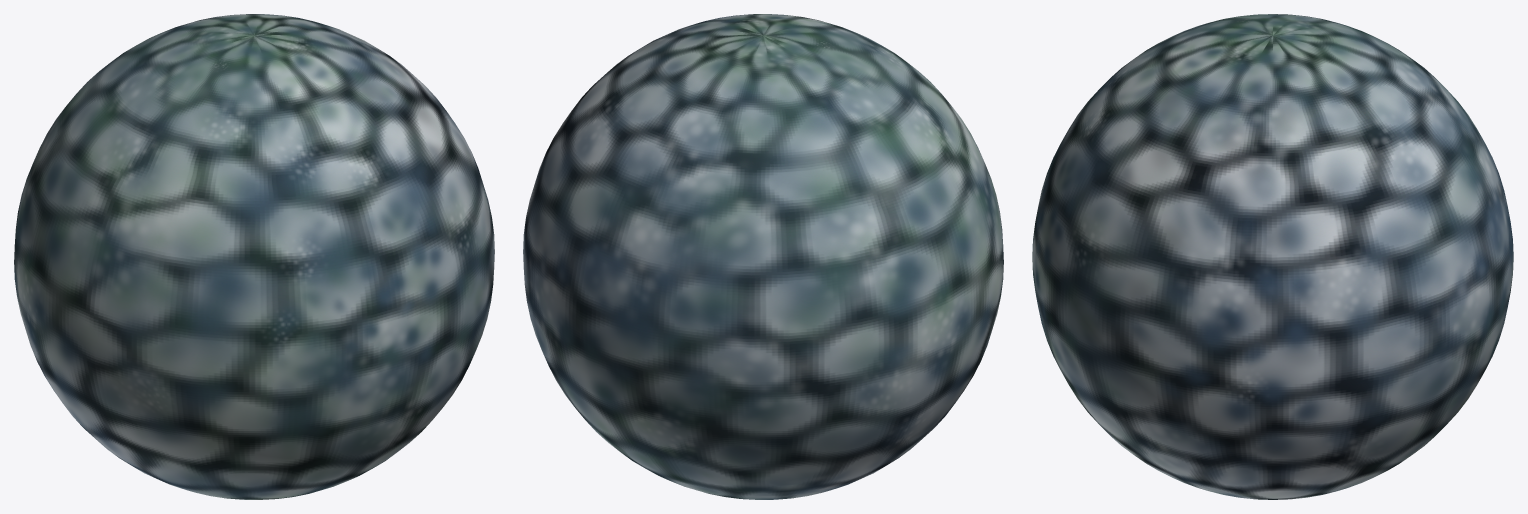
File: worldDummy.obj
3 views of the same model, side by side, from view 1: azimuth 30°, elevation 25°; view 2: azimuth 150°, elevation 25°; view 3: azimuth 270°, elevation 25° (orthographic).
Visible parts, largest first — view 1: meshWorld; view 2: meshWorld; view 3: meshWorld.
Part boxes in pixels (box(x1,y1,x2,y2)): meshWorld: box(14, 14, 494, 499); meshWorld: box(523, 14, 1003, 499); meshWorld: box(1032, 14, 1513, 499).
Bounding box in the file's own units: 1.97 × 2 × 1.97.
Materials: 1 (1 with a texture image).
